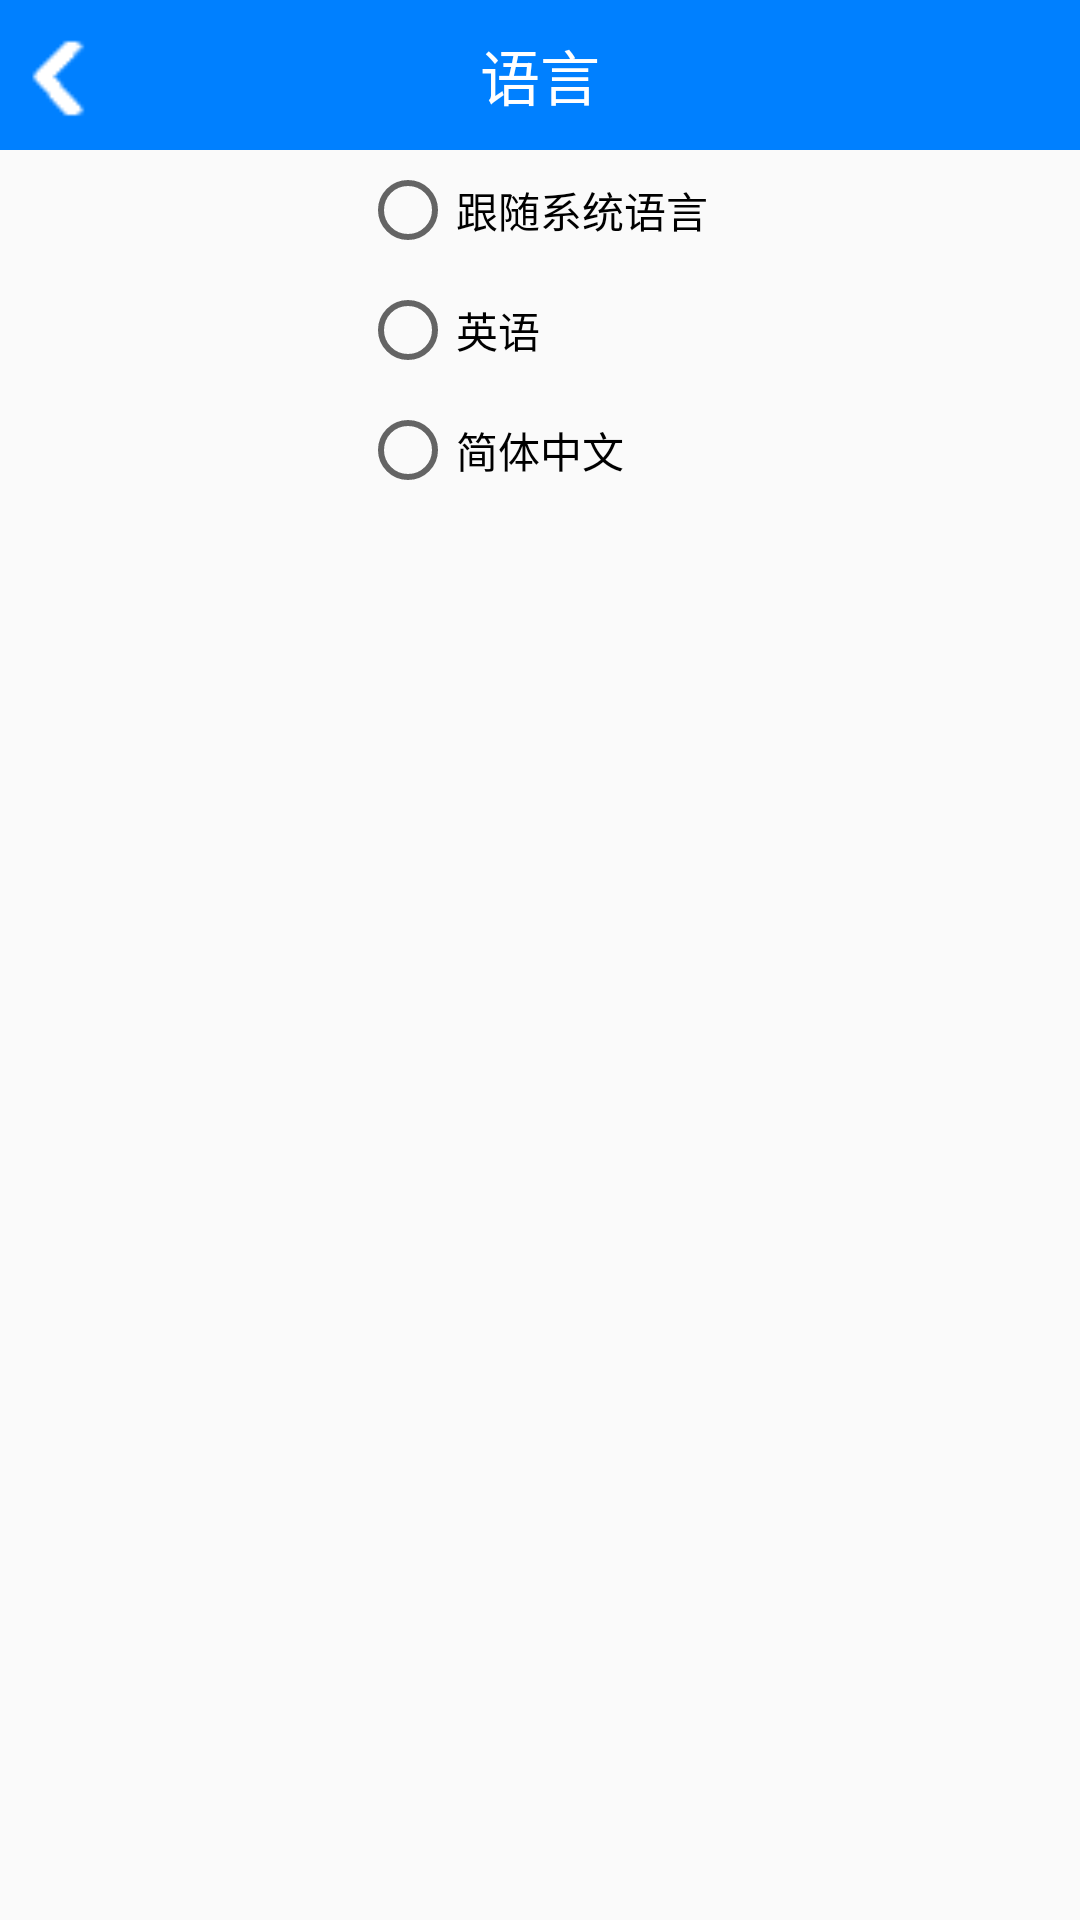

Where icons sit on this 1080x1920 app screen, as region(x1, y1, x2, y2):
return: region(32, 40, 84, 116)
